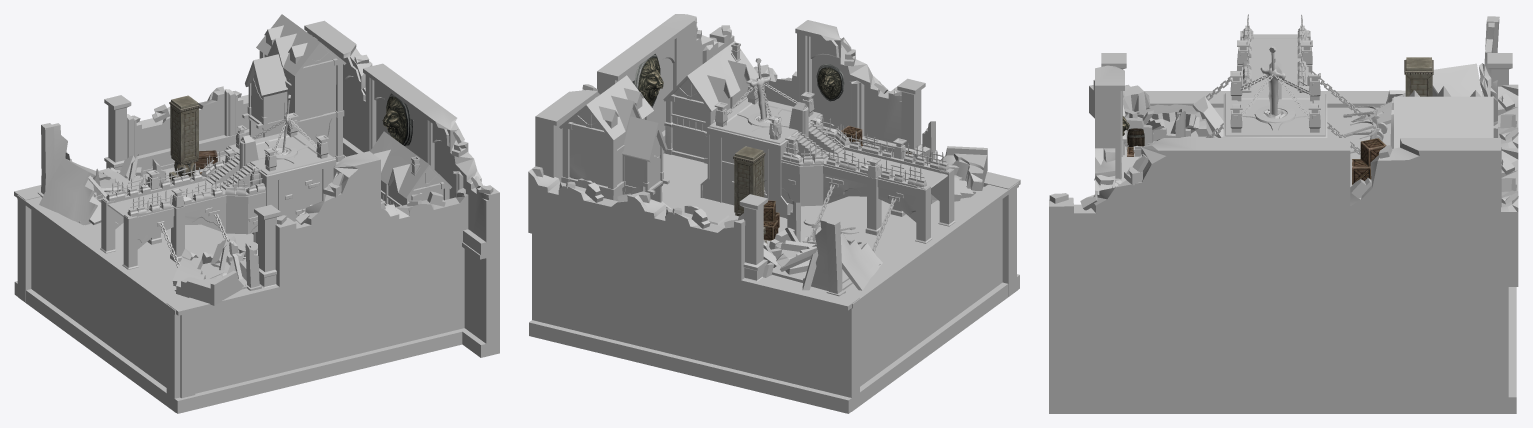
File: BridgeEnd.fbx
3 views of the same model, side by side, from view 1: azimuth 30°, elevation 25°; view 2: azimuth 150°, elevation 25°; view 3: azimuth 270°, elevation 25° (orthographic). The views are drawn at different scales.
Visible parts, largest first — view 1: BridgeEnd; view 2: BridgeEnd; view 3: BridgeEnd.
Boxes of the visible parts, left/top/right/bottom form: BridgeEnd: left=14, top=14, right=499, bottom=413; BridgeEnd: left=528, top=14, right=1020, bottom=413; BridgeEnd: left=1049, top=14, right=1518, bottom=413.
Bounding box in the file's own units: 38.48 × 27.13 × 39.83.
